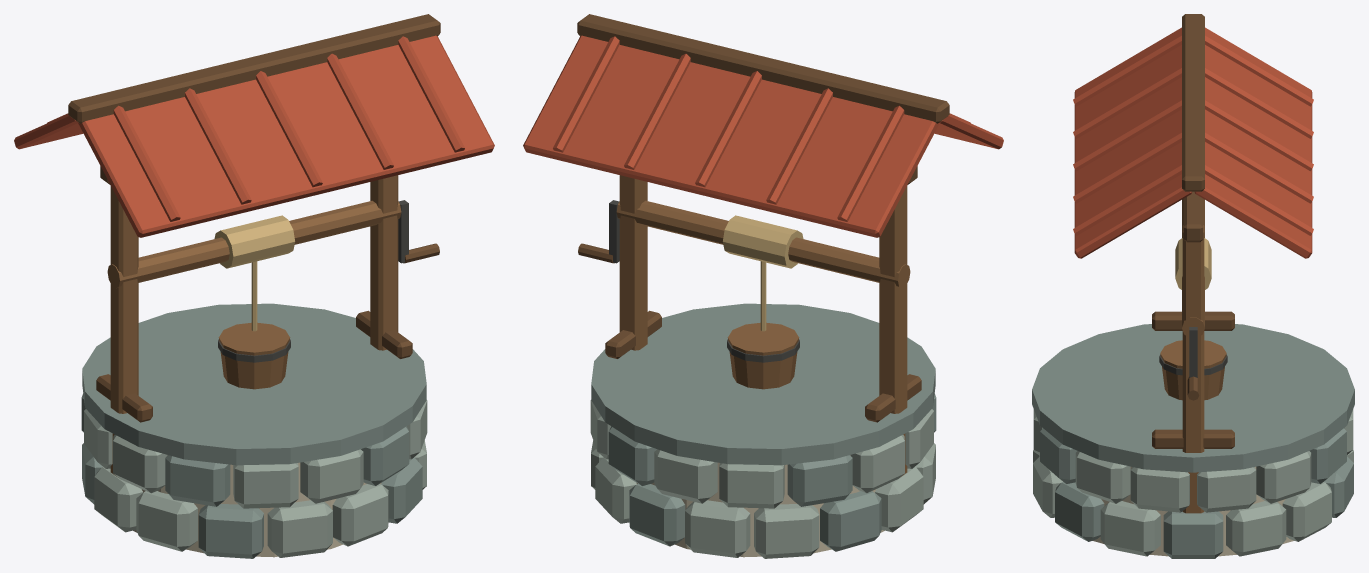
Rendered from well-tier-1.glb.
3 views of the same model, side by side, from view 1: azimuth 30°, elevation 25°; view 2: azimuth 150°, elevation 25°; view 3: azimuth 270°, elevation 25° (orthographic). The views are drawn at different scales.
Parts seen in each view (by area): view 1: well_body, bucket_mesh, crank_mesh; view 2: well_body, bucket_mesh, crank_mesh; view 3: well_body, bucket_mesh, crank_mesh.
Boxes of the visible parts, left/top/right/bottom form: well_body: left=14, top=14, right=494, bottom=558; bucket_mesh: left=218, top=261, right=290, bottom=389; crank_mesh: left=398, top=200, right=439, bottom=263; well_body: left=523, top=14, right=1003, bottom=558; bucket_mesh: left=727, top=261, right=799, bottom=389; crank_mesh: left=578, top=200, right=619, bottom=263; well_body: left=1032, top=14, right=1354, bottom=558; bucket_mesh: left=1159, top=340, right=1227, bottom=400; crank_mesh: left=1187, top=327, right=1199, bottom=400.
Bounding box in the file's own units: 2.35 × 2.67 × 1.94.
